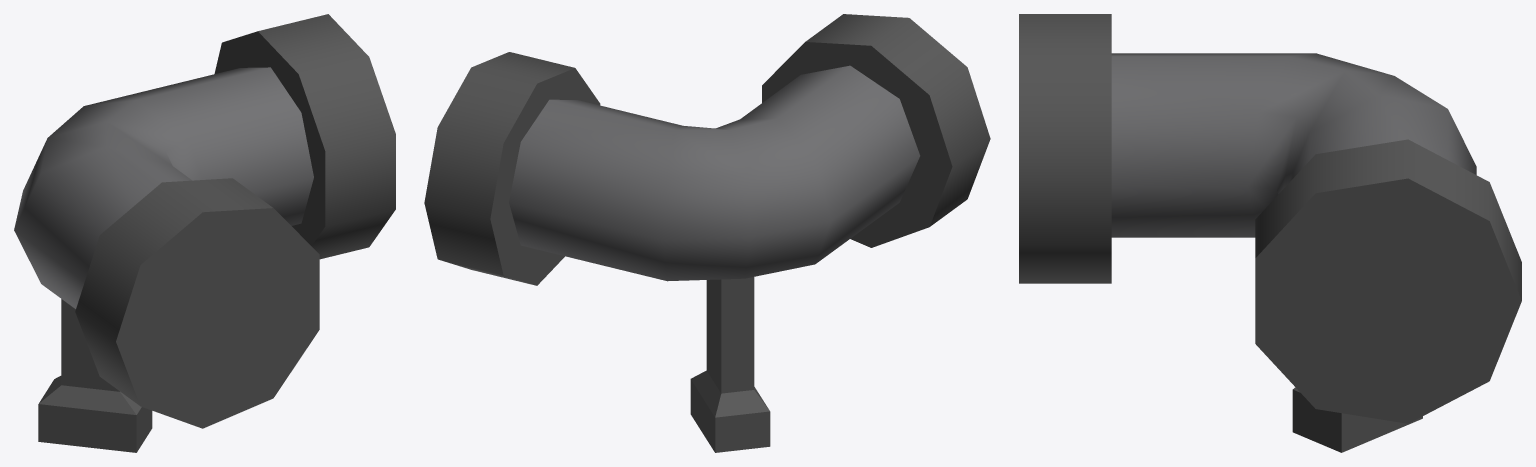
File: Pipe_1_B_3.fbx
The picture shows the model from 3 angles, left to right: view 1: azimuth 30°, elevation 25°; view 2: azimuth 150°, elevation 25°; view 3: azimuth 270°, elevation 25°; orthographic projection. The views are drawn at different scales.
Parts seen in each view (by area): view 1: Pipe_1_B_3; view 2: Pipe_1_B_3; view 3: Pipe_1_B_3.
Boxes of the visible parts, left/top/right/bottom form: Pipe_1_B_3: left=14, top=14, right=395, bottom=452; Pipe_1_B_3: left=424, top=14, right=990, bottom=452; Pipe_1_B_3: left=1019, top=14, right=1521, bottom=452.
Bounding box in the file's own units: 55.93 × 47.63 × 55.93.
